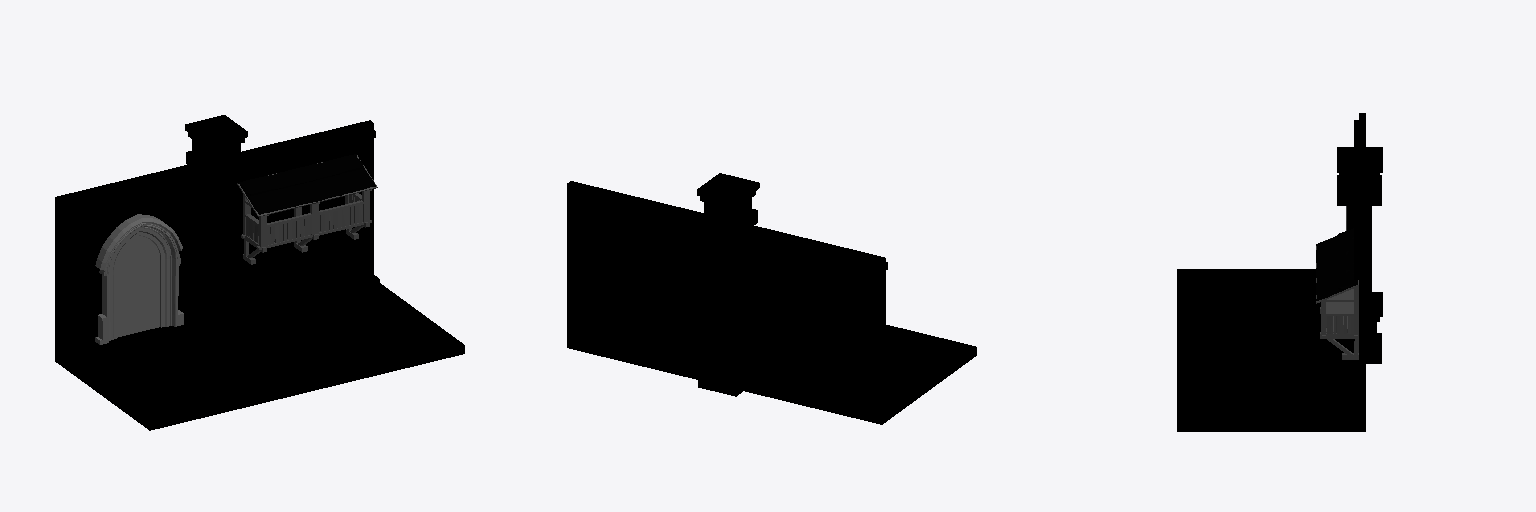
3 views of the same model, side by side, from view 1: azimuth 30°, elevation 25°; view 2: azimuth 150°, elevation 25°; view 3: azimuth 270°, elevation 25° (orthographic).
Parts seen in each view (by area): view 1: object_21, object_20, Cube.049_Cube.075, Plane.017, object_5, object_1, object_6, object_4, object_8, object_2, object_19, object_9 (+8 smaller); view 2: object_21, object_20, object_6, object_9, object_14, object_11, object_7, object_17, object_16, object_10, object_12; view 3: object_1, Cube.049_Cube.075, object_4, object_5, object_2, object_6, object_8, object_3, object_7, object_20, object_14, object_19 (+3 smaller).
Part boxes in pixels (x1,y1,x2,y2): object_21: (55,163,205,363); object_20: (233,120,373,306); Cube.049_Cube.075: (237,154,377,264); Plane.017: (95,214,183,344); object_5: (59,333,306,430); object_1: (265,295,464,391); object_6: (63,350,188,429); object_4: (341,283,464,360); object_8: (184,325,306,401); object_2: (228,312,345,391); object_19: (59,274,379,361); object_9: (206,174,232,279); object_21: (735,224,885,424); object_20: (567,181,710,379); object_6: (886,337,976,419); object_9: (711,233,734,337); object_14: (697,173,759,204); object_11: (704,347,739,381); object_7: (886,325,937,354); object_17: (698,209,757,237); object_16: (704,198,751,223); object_10: (698,371,743,396); object_12: (697,329,744,349); object_1: (1177,367,1358,431); Cube.049_Cube.075: (1316,228,1358,359); object_4: (1177,404,1351,431); object_5: (1222,290,1320,326); object_2: (1177,346,1346,366); object_6: (1177,269,1315,289); object_8: (1177,327,1336,345); object_3: (1177,365,1221,403); object_7: (1177,288,1221,326); object_20: (1359,200,1365,431); object_14: (1337,147,1382,172); object_19: (1347,349,1358,424).
Size of the model in its own units: 20 by 12.01 by 11.28.